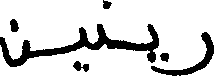ر: (157, 29, 211, 73)
ن: (0, 17, 28, 68), (94, 0, 111, 61)
ى: (137, 23, 170, 61), (72, 25, 90, 73)
